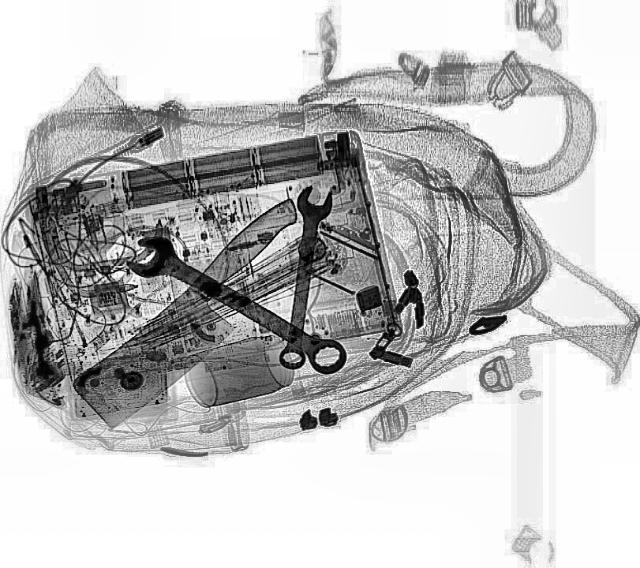Knife: (53, 193, 344, 433)
Wrench: (118, 228, 358, 382), (274, 186, 336, 372)
